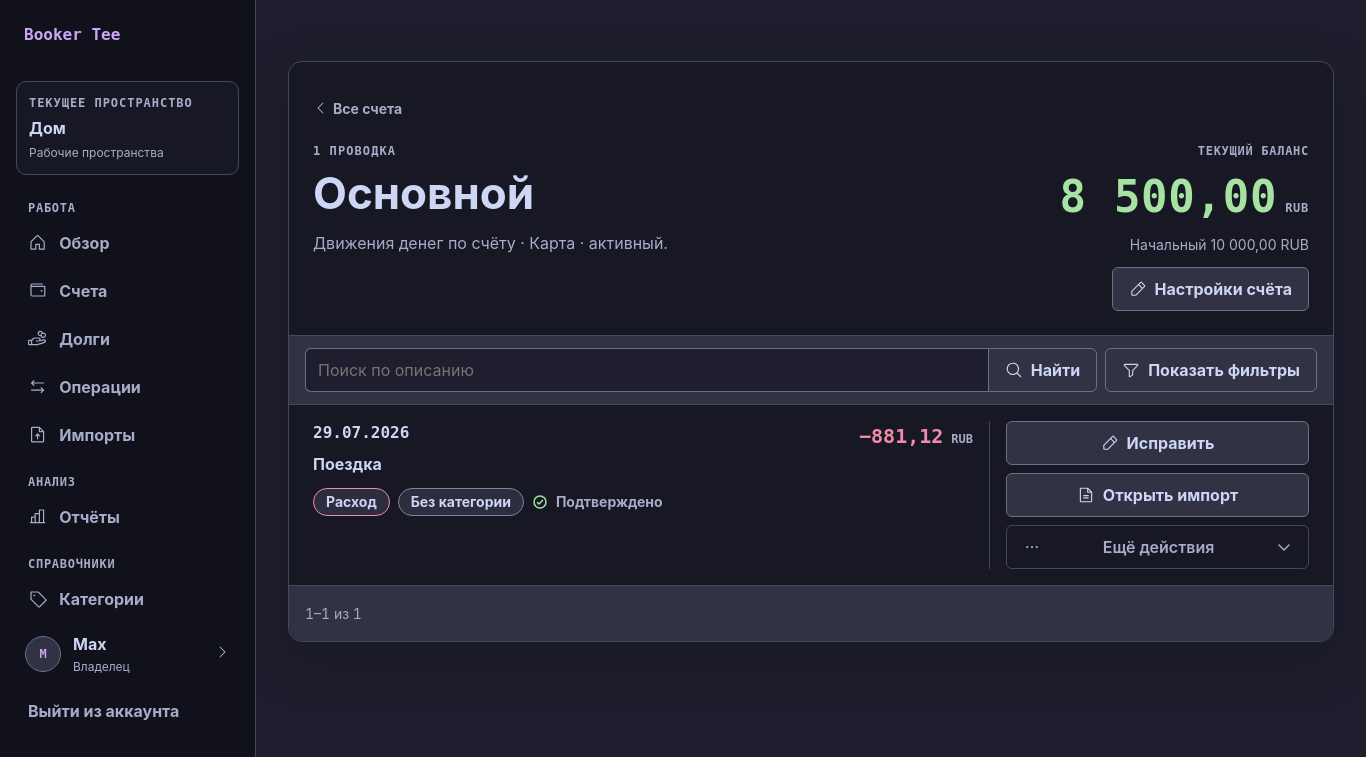
AccountDetailPage › edits only review fields of an imported operation and reconciles the row
expect the link "Открыть импорт" is shown: met, box [1006, 473, 1309, 517]
Click the button "Исправить". click: (1158, 443)
box: [1006, 421, 1309, 465]
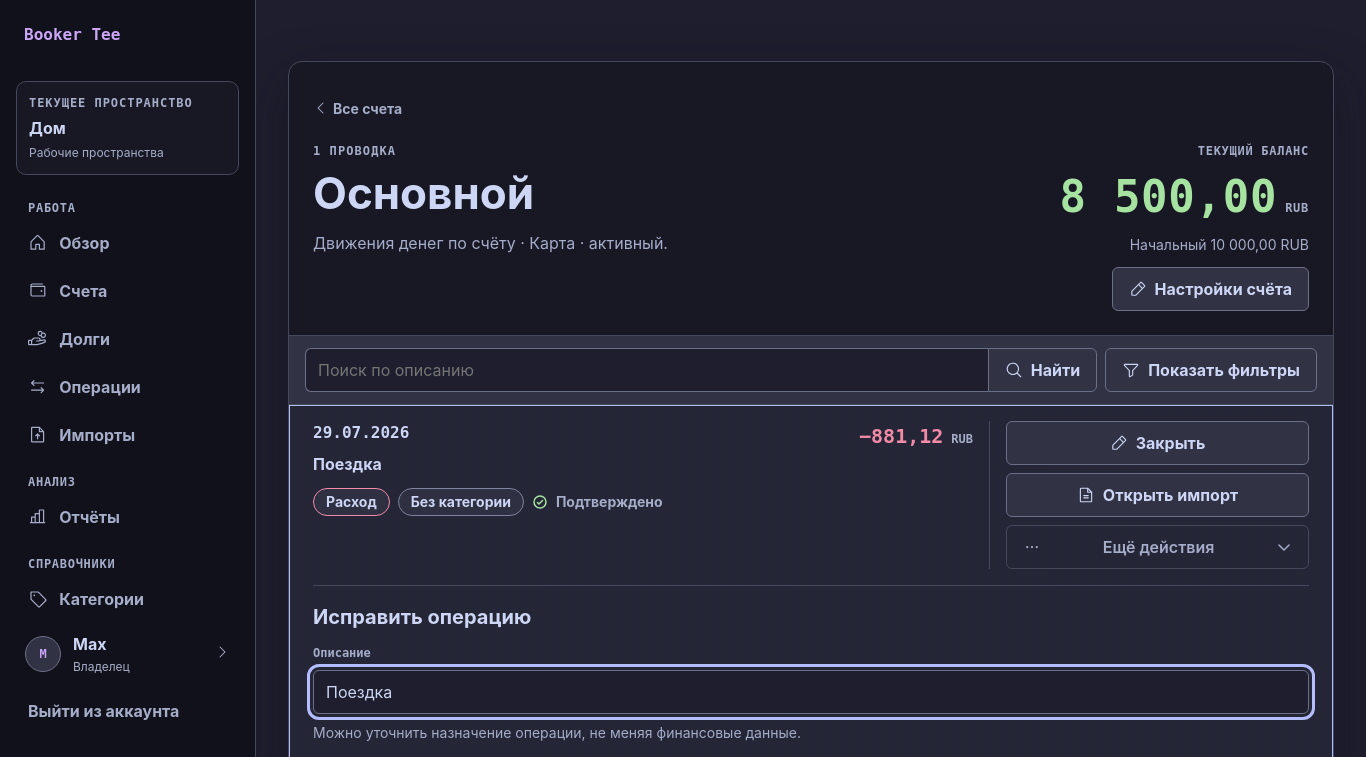
expect the button "Закрыть" is expanded: met, box [1006, 421, 1309, 465]
Replace the text in the field labelled "Описание" with "Такси до аэропорта". click: (811, 692)
box: [313, 670, 1309, 714]
(page scrolled)
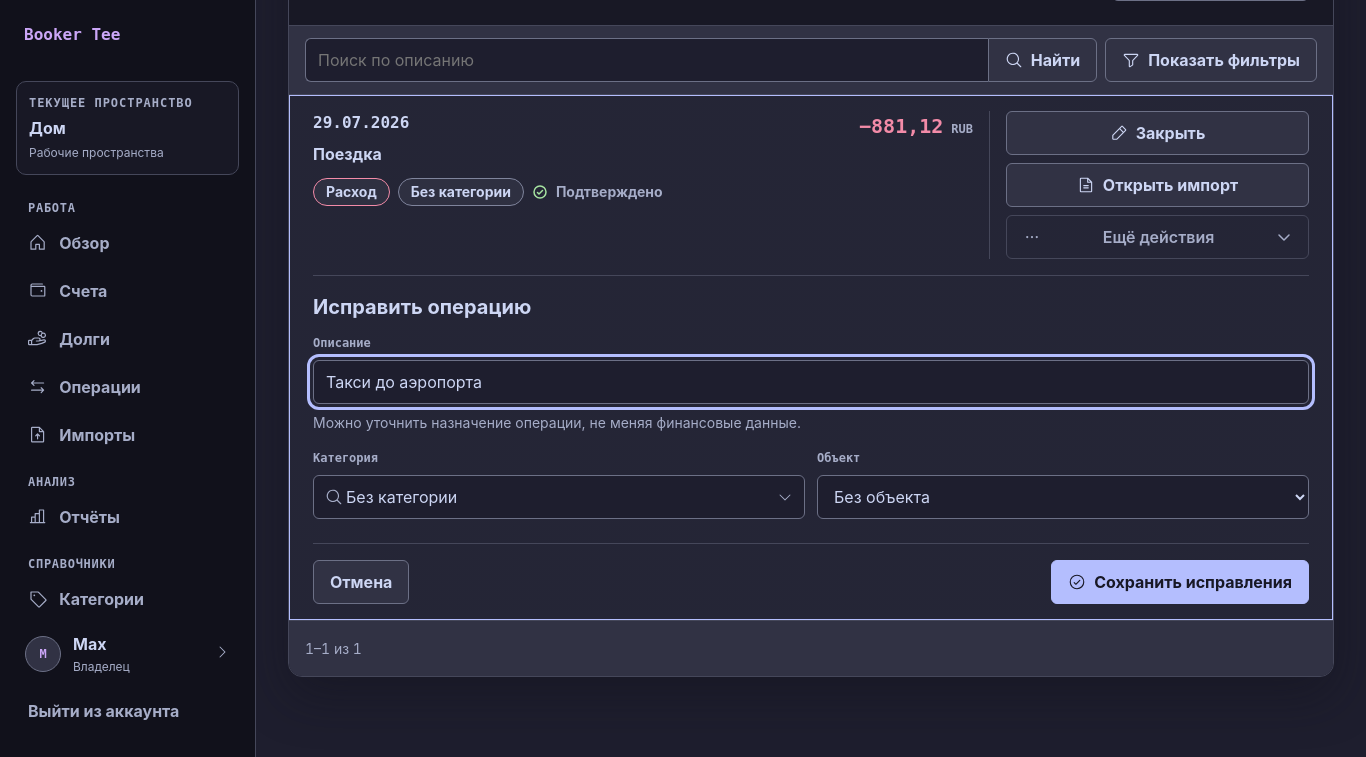
Type "тран" into the dropdown labelled "Категория". click: (559, 497)
box: [313, 475, 805, 519]
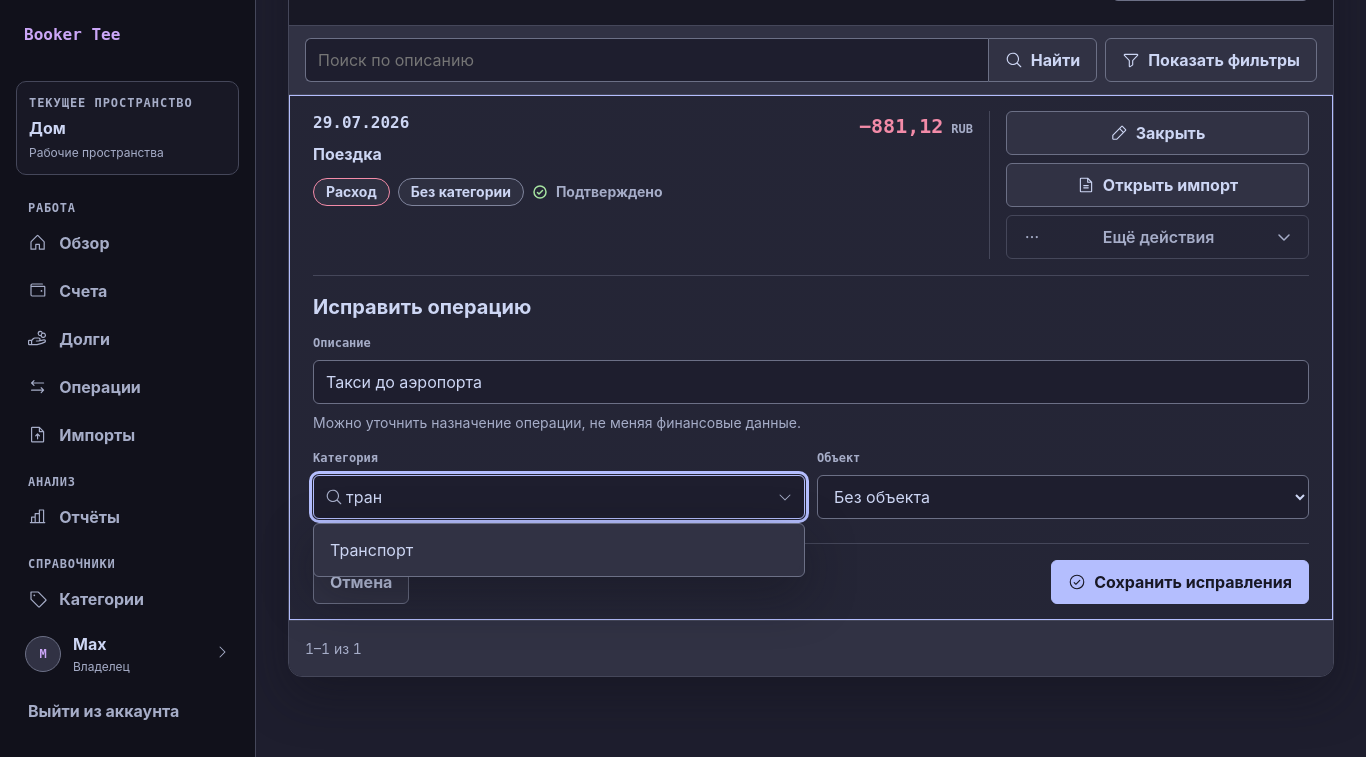
Click the option "Транспорт". click: (372, 550)
box: [318, 528, 800, 572]
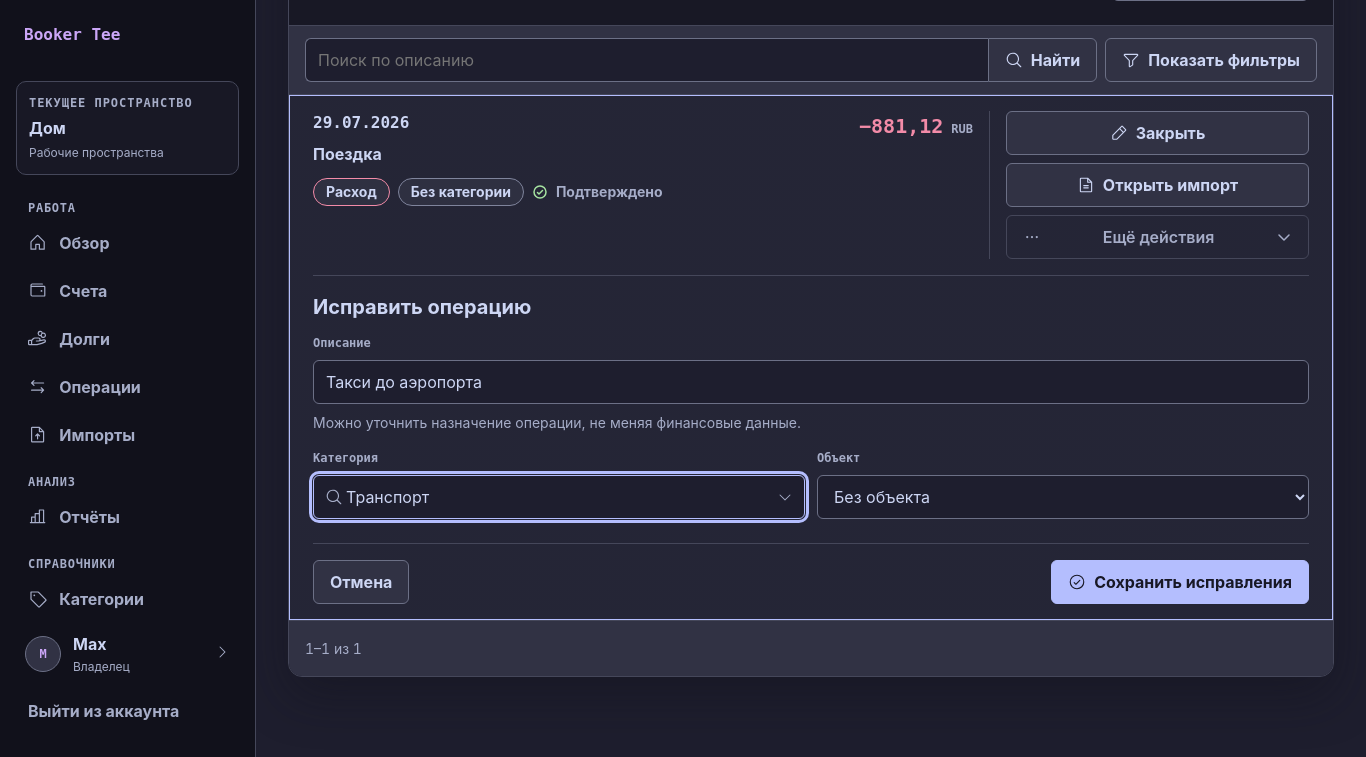
Select "Квартира" in the dropdown labelled "Объект". click: (1063, 497)
box: [817, 475, 1309, 519]
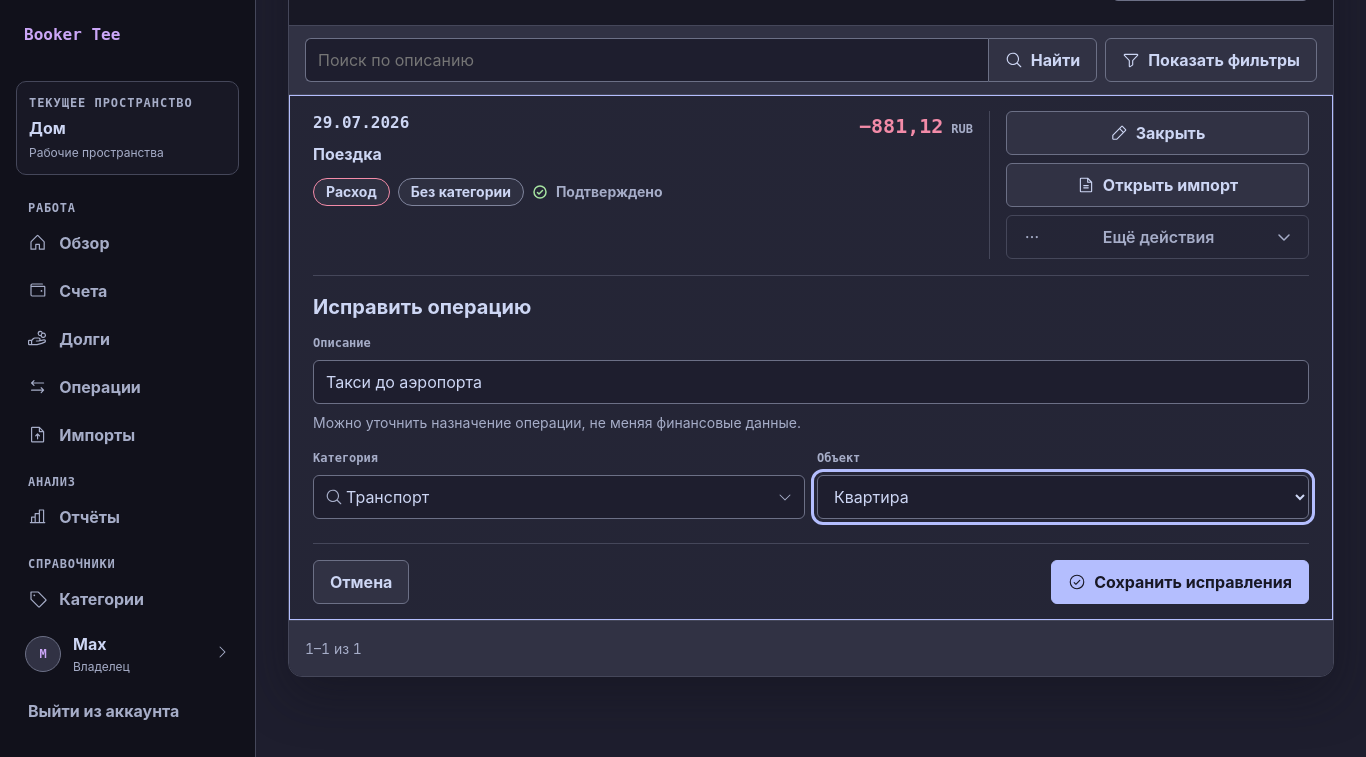
Click the button "Сохранить исправления". click: (1180, 582)
box: [1051, 560, 1309, 604]
(page scrolled)
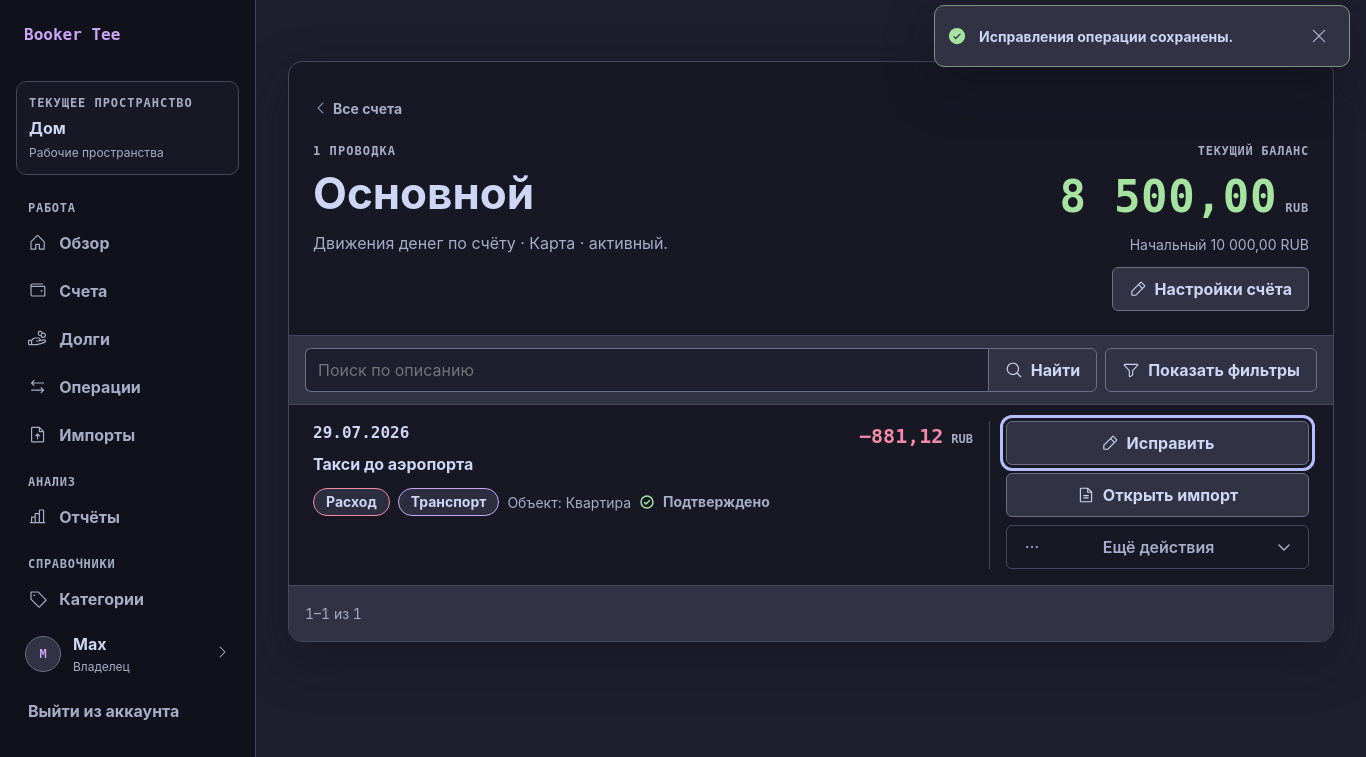
expect the heading "Такси до аэропорта" is shown: met, box [313, 453, 473, 476]
expect the text "Транспорт" is shown: met, box [398, 488, 499, 516]
expect the text "Объект: Квартира" is shown: met, box [507, 492, 631, 513]
